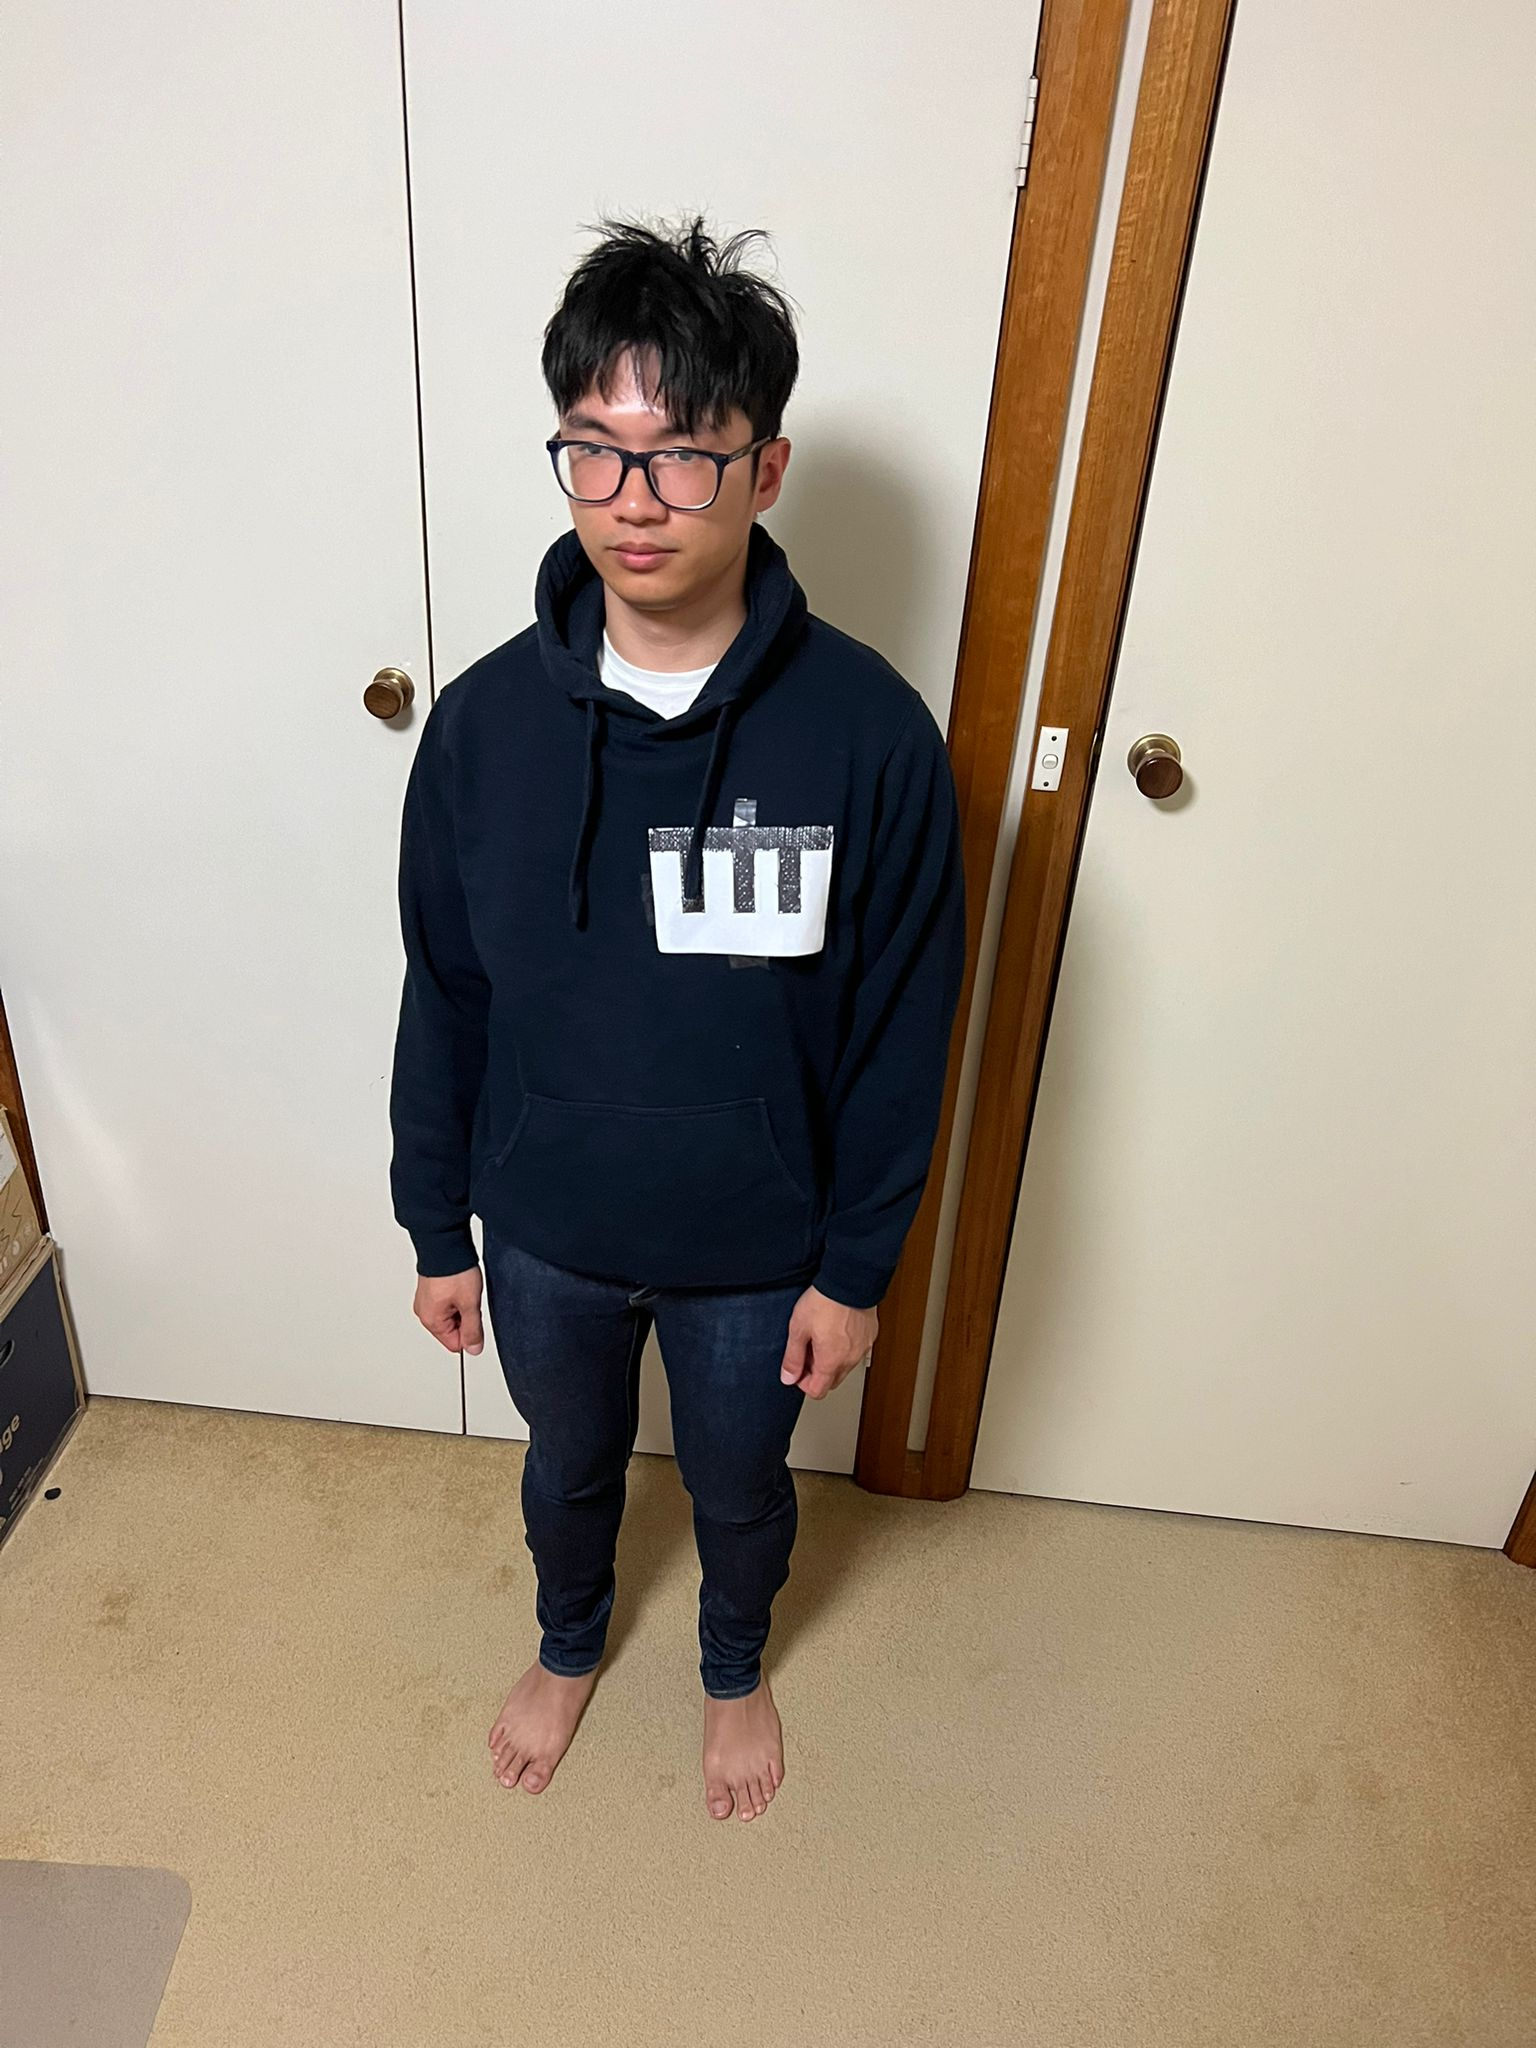Staff: (607, 779, 862, 997)
